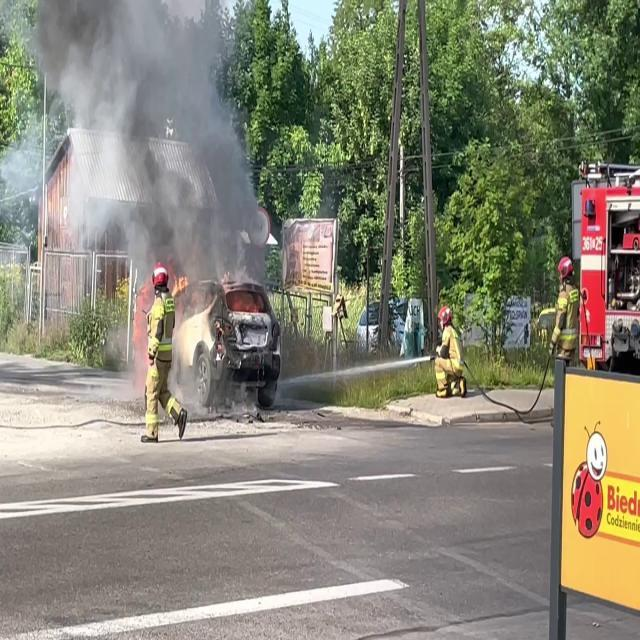Smoke: (12, 2, 276, 294)
